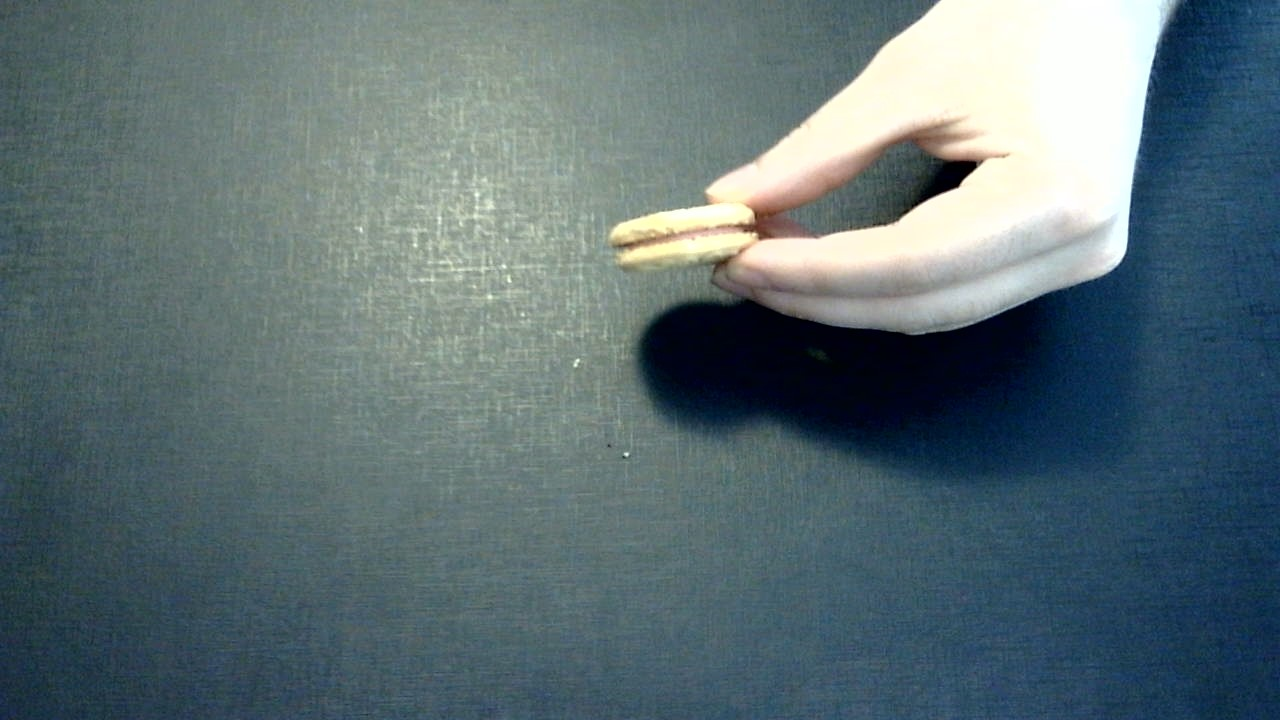lulu: (607, 202, 757, 271)
